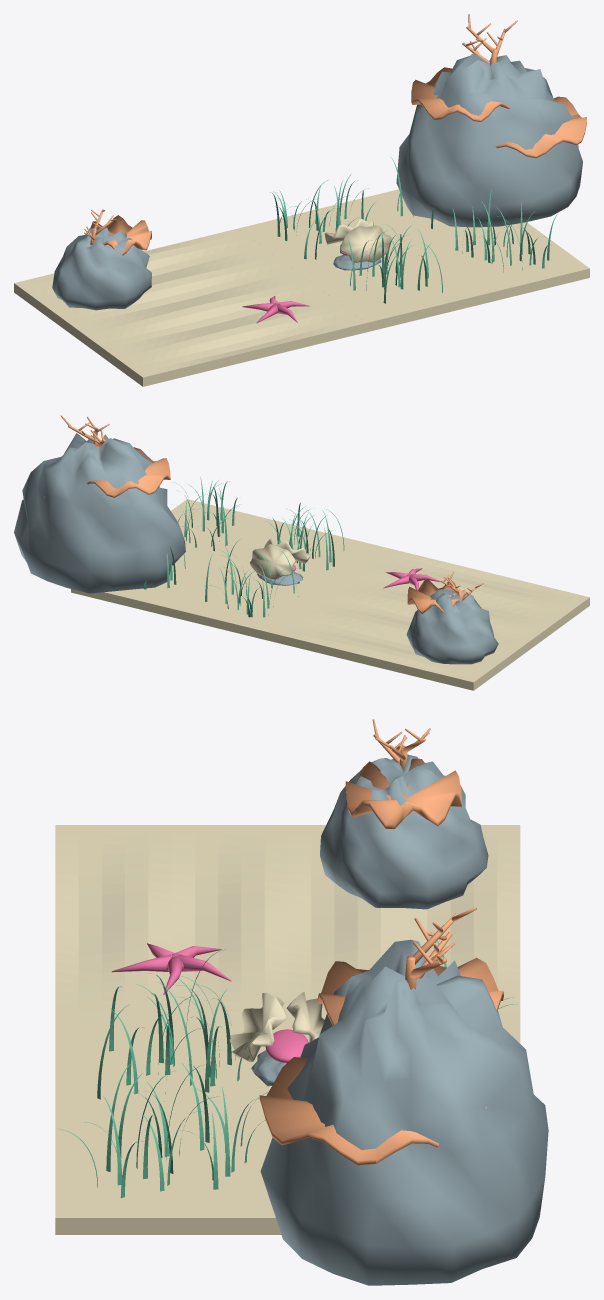
The model's file is underwater-reef-worlds-sand-flat-bommies-54d9cc66__7077.glb.
3 renders of one model, top to bottom at view 1: azimuth 30°, elevation 25°; view 2: azimuth 150°, elevation 25°; view 3: azimuth 270°, elevation 25°, orthographic. The views are drawn at different scales.
Visible parts, largest first — view 1: 000-sand-ripple-tile/0, 003-coral-bommie-large/0, 001-turtle-grass-tile/0, 002-coral-bommie-small/0, 003-coral-bommie-large/2, 003-coral-bommie-large/1, 005-giant-clam/2, 002-coral-bommie-small/1; view 2: 000-sand-ripple-tile/0, 003-coral-bommie-large/0, 001-turtle-grass-tile/0, 002-coral-bommie-small/0, 003-coral-bommie-large/2, 005-giant-clam/1, 002-coral-bommie-small/1; view 3: 003-coral-bommie-large/0, 000-sand-ripple-tile/0, 001-turtle-grass-tile/0, 002-coral-bommie-small/0, 003-coral-bommie-large/1, 002-coral-bommie-small/1, 003-coral-bommie-large/2, 005-giant-clam/2, 005-giant-clam/1, 005-giant-clam/3.
Part boxes in pixels (box(x1,y1,x2,y2)): 000-sand-ripple-tile/0: box(14, 228, 366, 386); 003-coral-bommie-large/0: box(396, 53, 582, 227); 001-turtle-grass-tile/0: box(238, 189, 589, 332); 002-coral-bommie-small/0: box(52, 226, 151, 310); 003-coral-bommie-large/2: box(411, 67, 509, 121); 003-coral-bommie-large/1: box(495, 96, 586, 158); 005-giant-clam/2: box(340, 225, 391, 262); 002-coral-bommie-small/1: box(87, 215, 151, 255); 000-sand-ripple-tile/0: box(272, 548, 589, 690); 003-coral-bommie-large/0: box(14, 433, 185, 593); 001-turtle-grass-tile/0: box(71, 499, 388, 641); 002-coral-bommie-small/0: box(406, 589, 498, 664); 003-coral-bommie-large/2: box(87, 447, 170, 497); 005-giant-clam/1: box(250, 544, 295, 579); 002-coral-bommie-small/1: box(407, 580, 465, 613); 003-coral-bommie-large/0: box(260, 939, 548, 1285); 000-sand-ripple-tile/0: box(55, 825, 520, 1021); 001-turtle-grass-tile/0: box(55, 1021, 520, 1234); 002-coral-bommie-small/0: box(320, 754, 488, 909); 003-coral-bommie-large/1: box(259, 1057, 486, 1165); 002-coral-bommie-small/1: box(345, 758, 461, 829); 003-coral-bommie-large/2: box(318, 957, 503, 1025); 005-giant-clam/2: box(229, 992, 287, 1061); 005-giant-clam/1: box(286, 992, 324, 1042); 005-giant-clam/3: box(265, 1029, 308, 1063).
Size of the model in its own units: 9.52 by 3.07 by 4.24.
